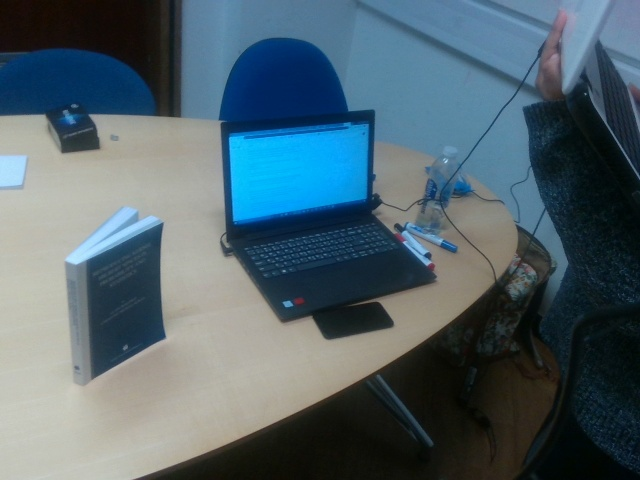book: (63, 206, 166, 392)
